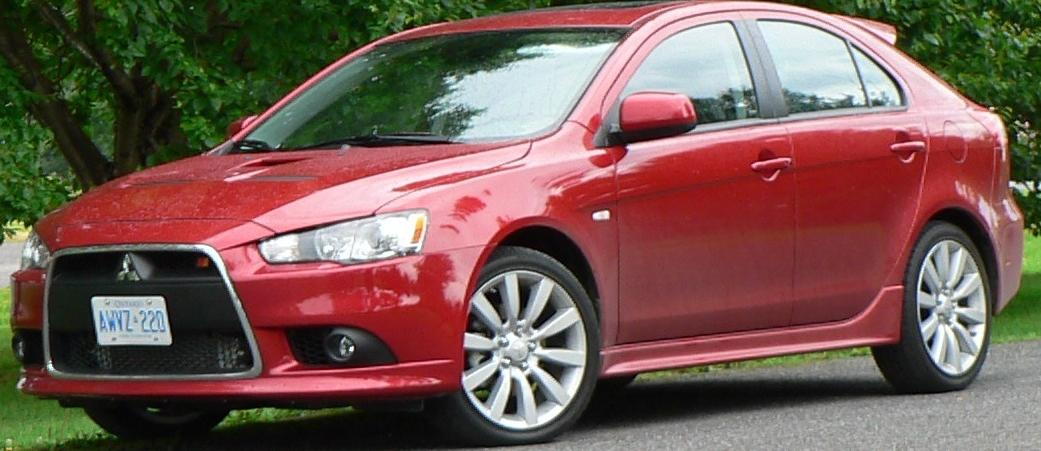front_view: (4, 200, 483, 399)
headlight: (248, 197, 449, 281)
side_glass: (580, 12, 907, 134)
